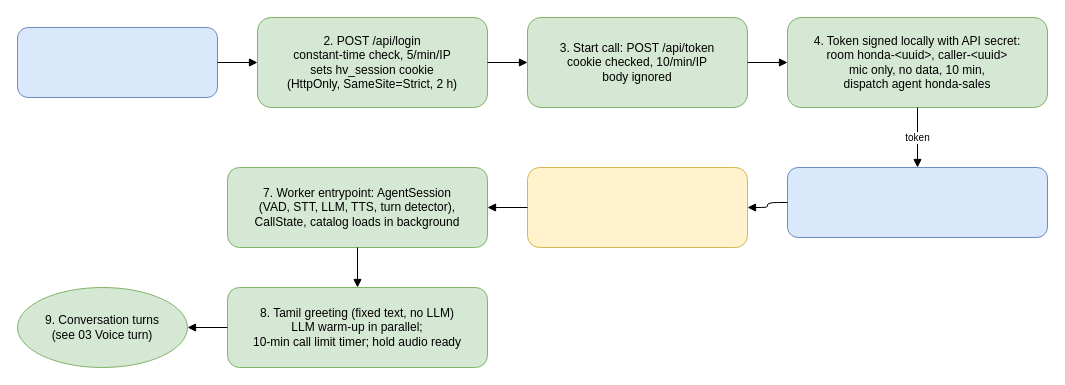
This 1065x385 diagram has some shape labels left out. The centre of each missing label's shape, as x and y in pixels:
1. Caller opens the page enters DEMO_PASSCODE: (x=117, y=62)
5. Browser joins the room on LiveKit Cloud (WebRTC): (x=917, y=202)
6. LiveKit dispatches a job to a worker registered as honda-sales (load < 1.0): (x=637, y=207)
